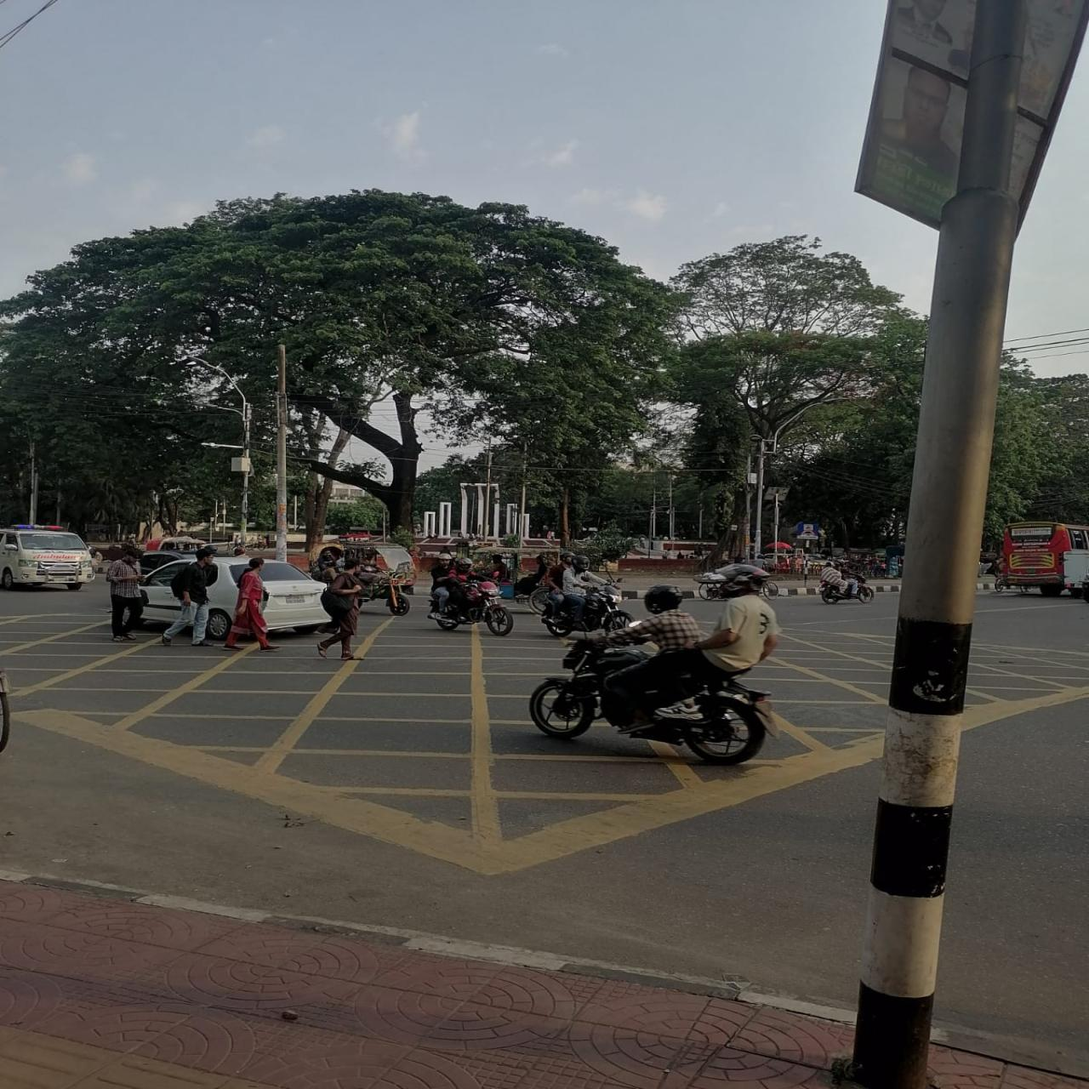person: (314, 557, 369, 662), (166, 545, 224, 644), (220, 562, 274, 654), (99, 544, 149, 641)
